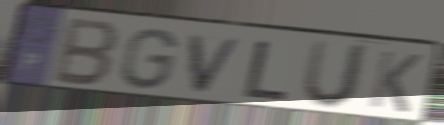B: (49, 15, 123, 90)
G: (118, 26, 180, 92)
K: (366, 48, 425, 115)
L: (241, 38, 292, 103)
U: (299, 38, 372, 112)
V: (188, 33, 247, 96)
